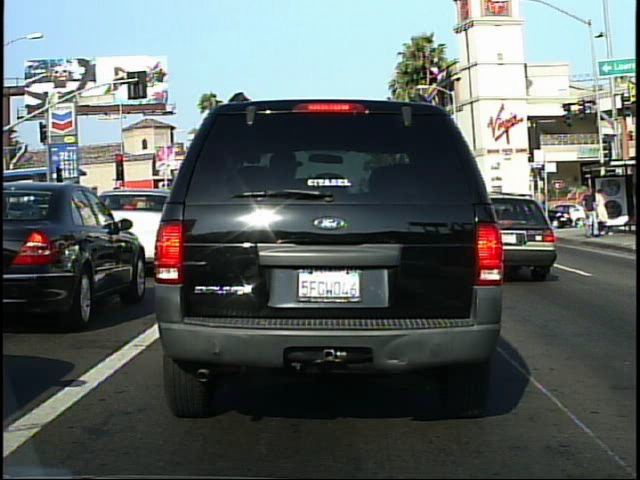person: (580, 186, 601, 239), (595, 185, 613, 236)
